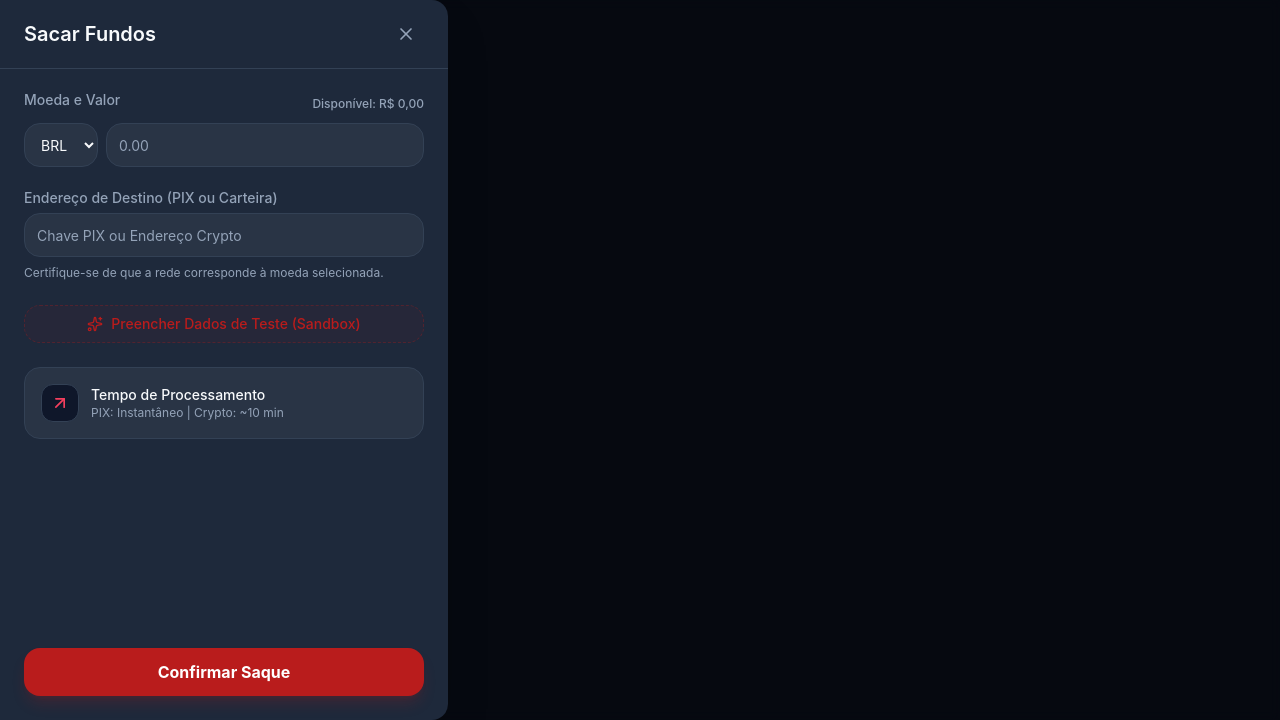
WithdrawDrawer › should fill mock values on Autofill click based on selected token
Check BRL autofill
Click the button "Preencher Dados de Teste (Sandbox)" at (224, 324), box x1=24 y1=305 x2=424 y2=343
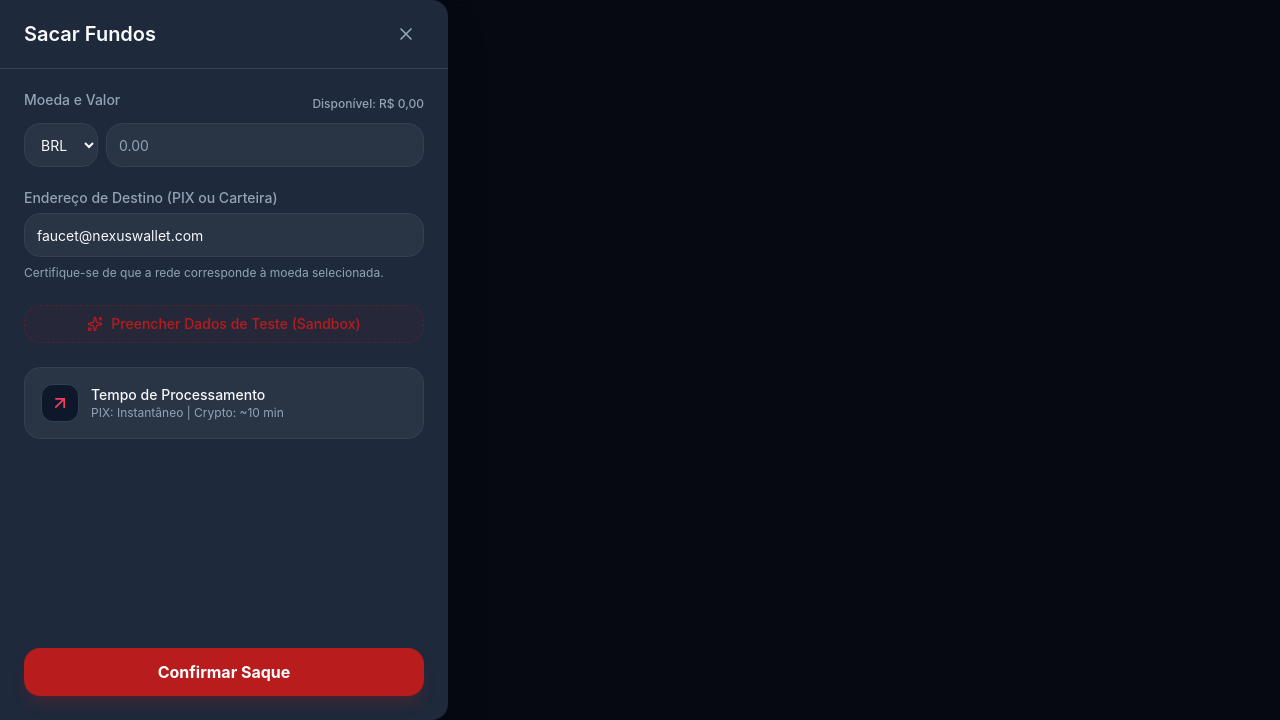
Expected: the field with placeholder "0.00" is empty, x1=106 y1=123 x2=424 y2=167
Expected: the field with placeholder "Chave PIX ou Endereço Crypto" holds "faucet@nexuswallet.com", x1=24 y1=213 x2=424 y2=257
Check BTC autofill
Select "BTC" in the dropdown at (61, 145), box x1=24 y1=123 x2=98 y2=167
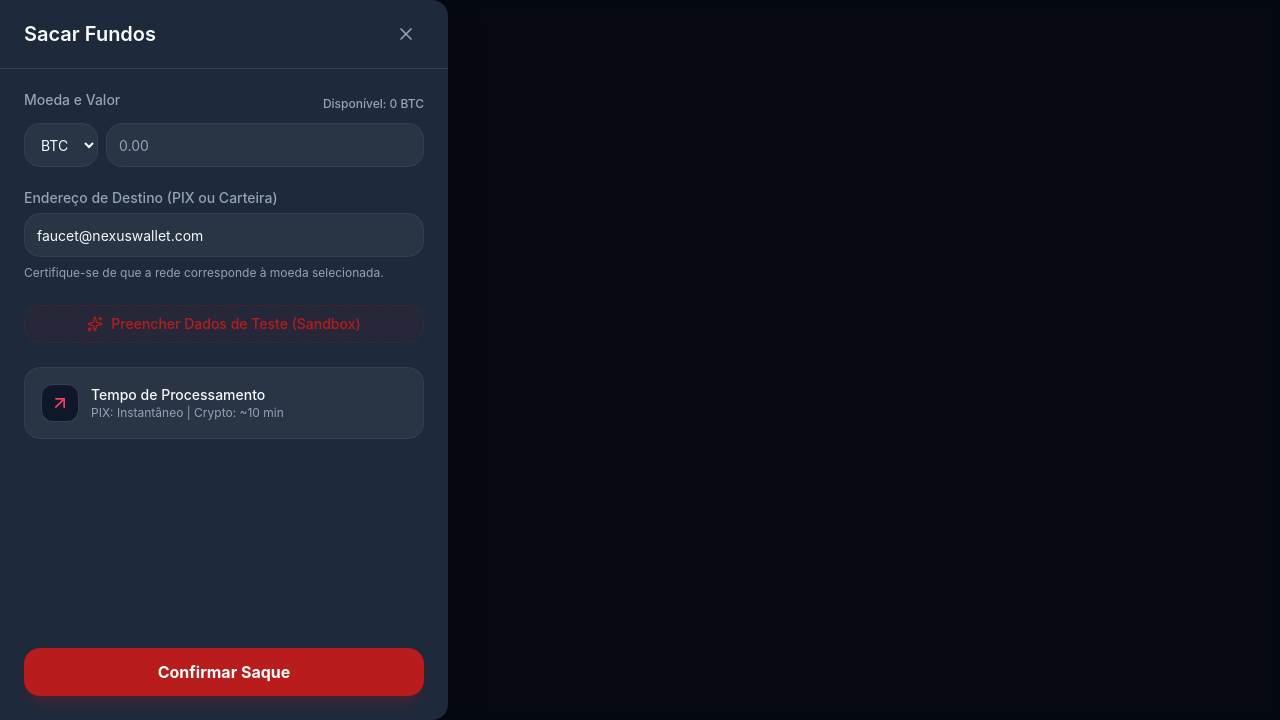
Click the button "Preencher Dados de Teste (Sandbox)" at (224, 324), box x1=24 y1=305 x2=424 y2=343
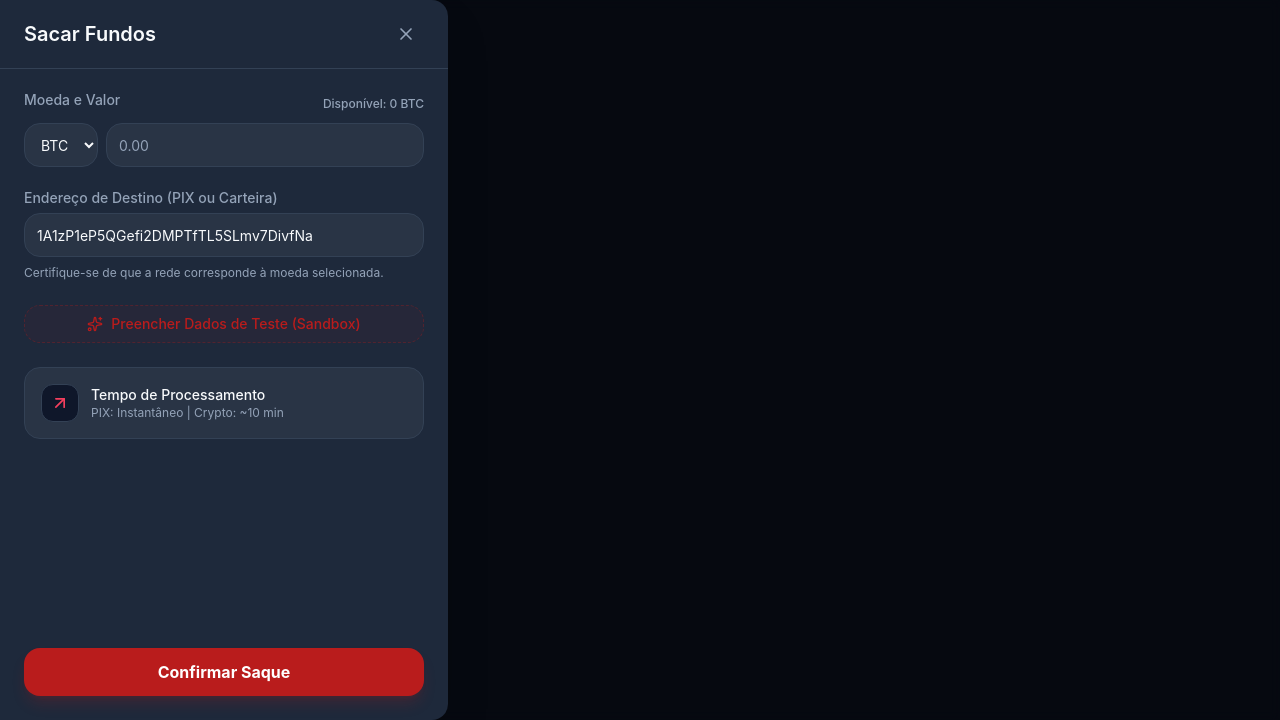
Expected: the field with placeholder "0.00" is empty, x1=106 y1=123 x2=424 y2=167
Expected: the field with placeholder "Chave PIX ou Endereço Crypto" holds "1A1zP1eP5QGefi2DMPTfTL5SLmv7DivfNa", x1=24 y1=213 x2=424 y2=257
Check ETH autofill
Select "ETH" in the dropdown at (61, 145), box x1=24 y1=123 x2=98 y2=167
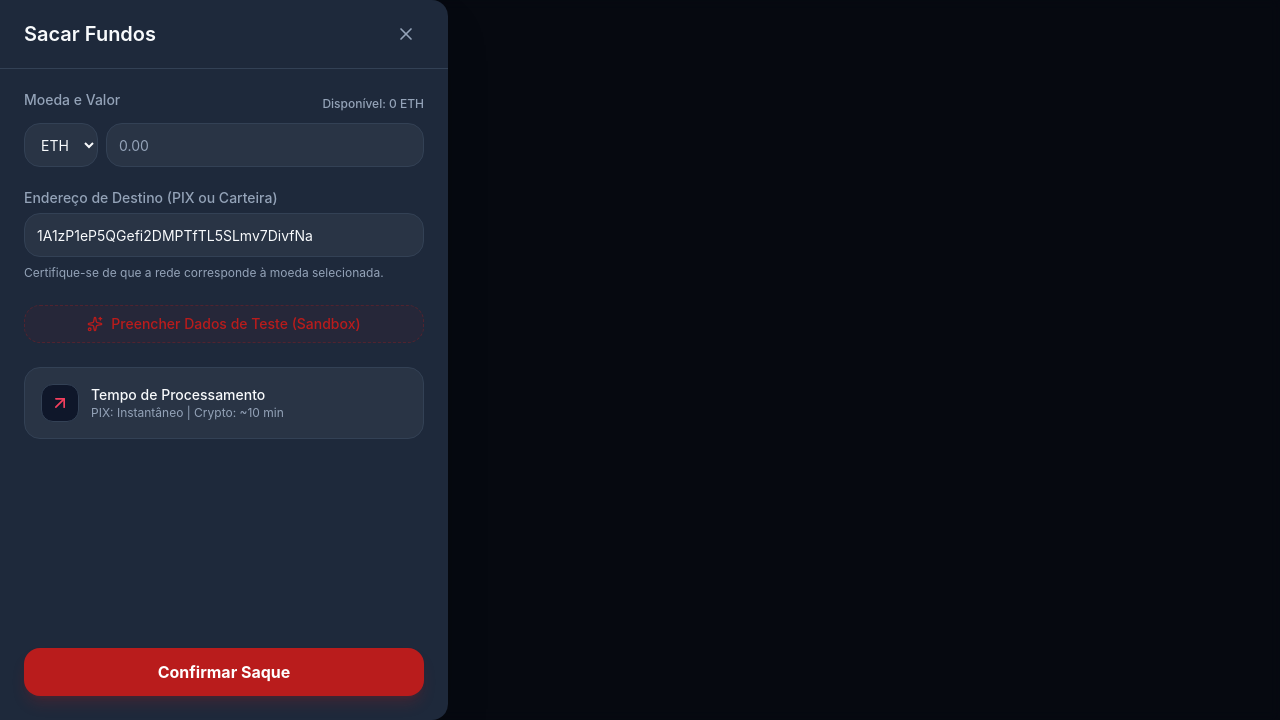
Click the button "Preencher Dados de Teste (Sandbox)" at (224, 324), box x1=24 y1=305 x2=424 y2=343
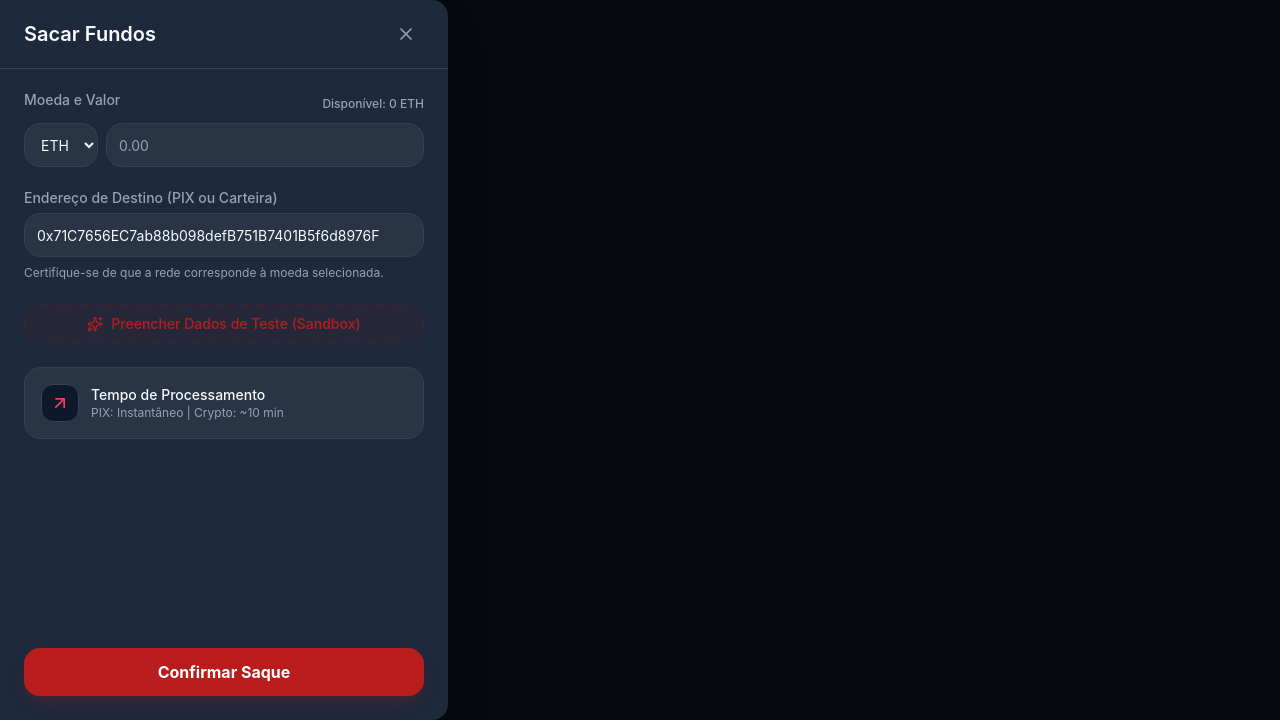
Expected: the field with placeholder "0.00" is empty, x1=106 y1=123 x2=424 y2=167
Expected: the field with placeholder "Chave PIX ou Endereço Crypto" holds "0x71C7656EC7ab88b098defB751B7401B5f6d8976F", x1=24 y1=213 x2=424 y2=257
